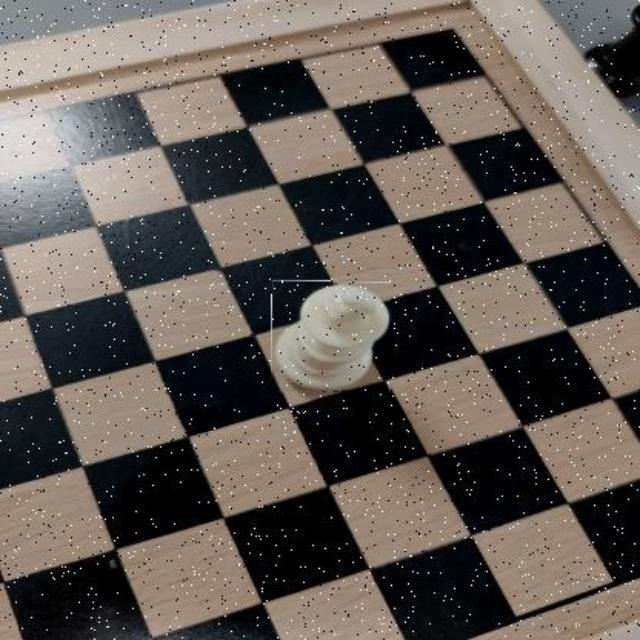white-king: (272, 282, 392, 394)
